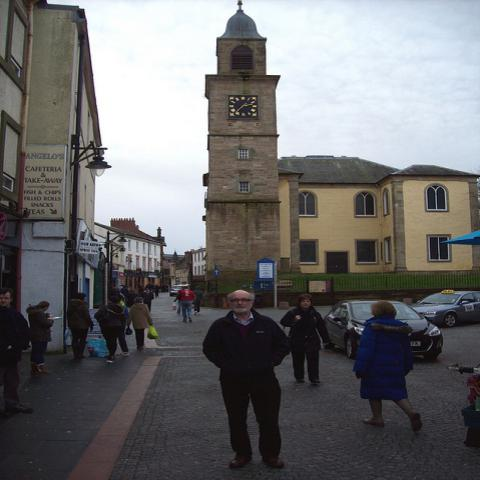car: (325, 300, 446, 358), (413, 290, 480, 328), (169, 284, 189, 296)
